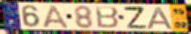6: (20, 4, 42, 29)
8: (73, 5, 94, 30)
A: (146, 6, 176, 30), (42, 5, 71, 29)
B: (94, 5, 120, 29)
Z: (122, 6, 149, 30)
